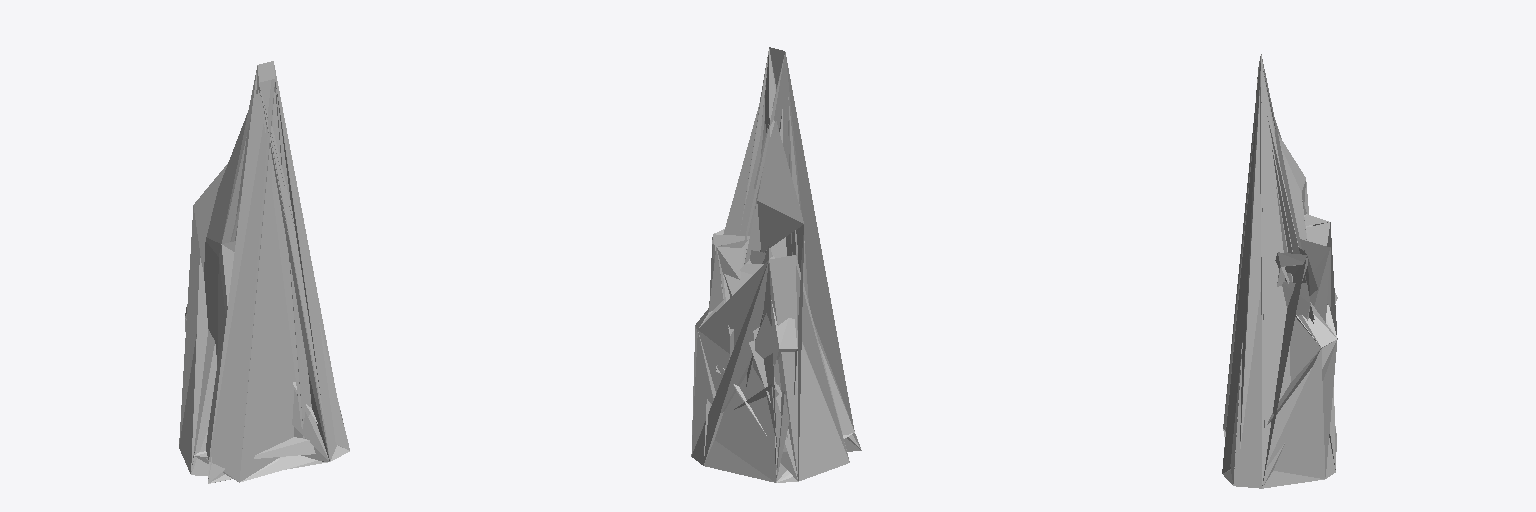
File: HUmar body.obj
3 renders of one model, left to right at view 1: azimuth 30°, elevation 25°; view 2: azimuth 150°, elevation 25°; view 3: azimuth 270°, elevation 25°, orthographic.
Parts seen in each view (by area): view 1: objg_plAbdy00_1, objg_plAbdy00_6, objg_plAbdy00_5, objg_plAbdy00_2, objg_plAbdy00_10, objg_plAbdy00_9, objg_plAbdy00_7, objg_plAbdy00_4; view 2: objg_plAbdy00_6, objg_plAbdy00_2, objg_plAbdy00_9, objg_plAbdy00_4, objg_plAbdy00_3, objg_plAbdy00_1, objg_plAbdy00_5; view 3: objg_plAbdy00_4, objg_plAbdy00_2, objg_plAbdy00_7, objg_plAbdy00_9, objg_plAbdy00_6, objg_plAbdy00_10, objg_plAbdy00_3, objg_plAbdy00_5, objg_plAbdy00_1.
Boxes of the visible parts, x1=… form: objg_plAbdy00_1: x1=208, y1=61, x2=342, y2=482; objg_plAbdy00_6: x1=179, y1=66, x2=349, y2=483; objg_plAbdy00_5: x1=208, y1=87, x2=296, y2=482; objg_plAbdy00_2: x1=179, y1=65, x2=349, y2=482; objg_plAbdy00_10: x1=260, y1=67, x2=336, y2=460; objg_plAbdy00_9: x1=180, y1=85, x2=327, y2=481; objg_plAbdy00_7: x1=254, y1=90, x2=315, y2=458; objg_plAbdy00_4: x1=242, y1=373, x2=329, y2=481; objg_plAbdy00_6: x1=691, y1=52, x2=860, y2=480; objg_plAbdy00_2: x1=691, y1=121, x2=854, y2=482; objg_plAbdy00_9: x1=704, y1=50, x2=854, y2=482; objg_plAbdy00_4: x1=699, y1=51, x2=854, y2=435; objg_plAbdy00_3: x1=692, y1=243, x2=804, y2=465; objg_plAbdy00_1: x1=704, y1=47, x2=786, y2=482; objg_plAbdy00_5: x1=695, y1=49, x2=861, y2=464; objg_plAbdy00_4: x1=1223, y1=62, x2=1332, y2=483; objg_plAbdy00_2: x1=1224, y1=63, x2=1337, y2=488; objg_plAbdy00_7: x1=1262, y1=67, x2=1336, y2=487; objg_plAbdy00_9: x1=1261, y1=54, x2=1335, y2=485; objg_plAbdy00_6: x1=1223, y1=61, x2=1337, y2=484; objg_plAbdy00_10: x1=1222, y1=68, x2=1264, y2=484; objg_plAbdy00_3: x1=1258, y1=62, x2=1336, y2=478; objg_plAbdy00_5: x1=1223, y1=87, x2=1336, y2=430; objg_plAbdy00_1: x1=1223, y1=56, x2=1336, y2=488.
Bounding box in the file's own units: 2.26 × 5.88 × 1.55.